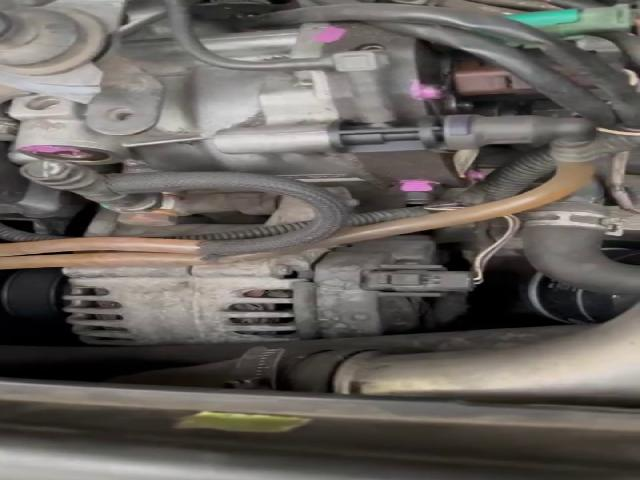alternator: (62, 249, 326, 345)
high_pressure_pump: (9, 22, 594, 205)
